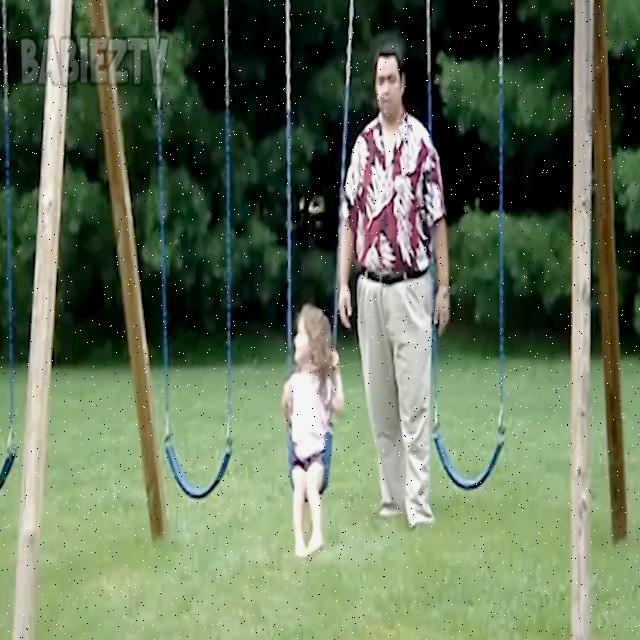child: (281, 307, 344, 559)
